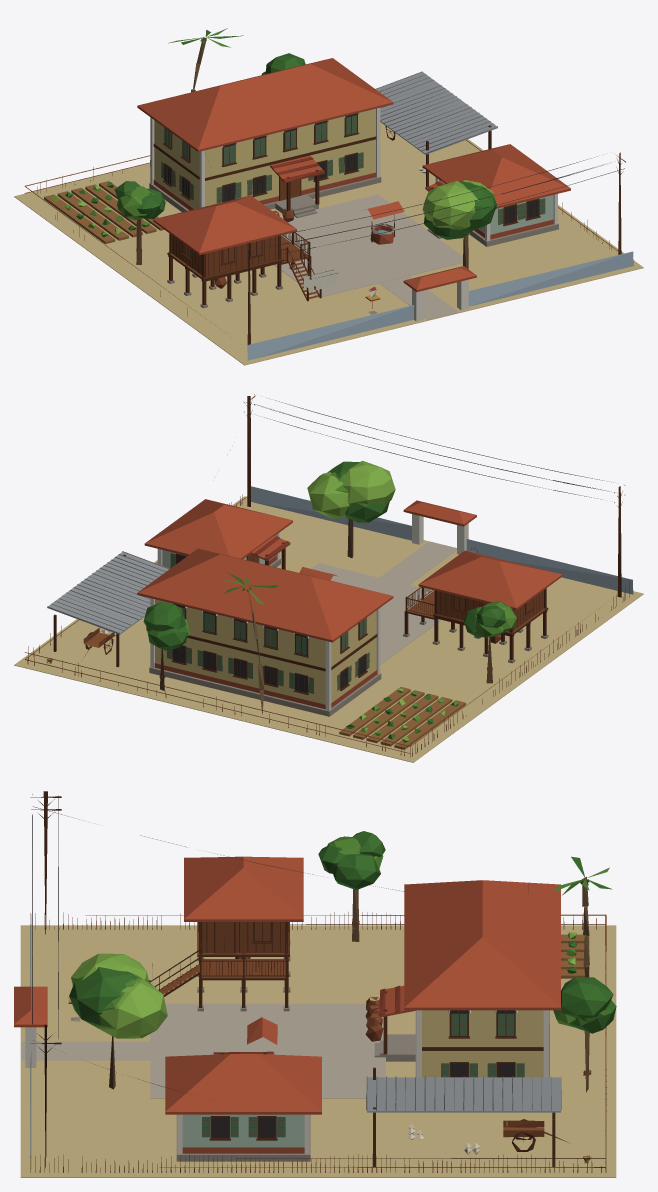
File: home_5.glb
3 renders of one model, top to bottom at view 1: azimuth 30°, elevation 25°; view 2: azimuth 150°, elevation 25°; view 3: azimuth 270°, elevation 25°, orthographic. The views are drawn at different scales.
Parts seen in each view (by area): view 1: body, windows; view 2: body, windows; view 3: body, windows.
Boxes of the visible parts, x1=… form: body: x1=14, y1=28, x2=643, y2=365; windows: x1=164, y1=113, x2=538, y2=262; body: x1=14, y1=394, x2=643, y2=762; windows: x1=173, y1=555, x2=525, y2=692; body: x1=14, y1=791, x2=616, y2=1177; windows: x1=212, y1=922, x2=515, y2=1137.
Bounding box in the file's own units: 31.9 × 10.4 × 33.73.
